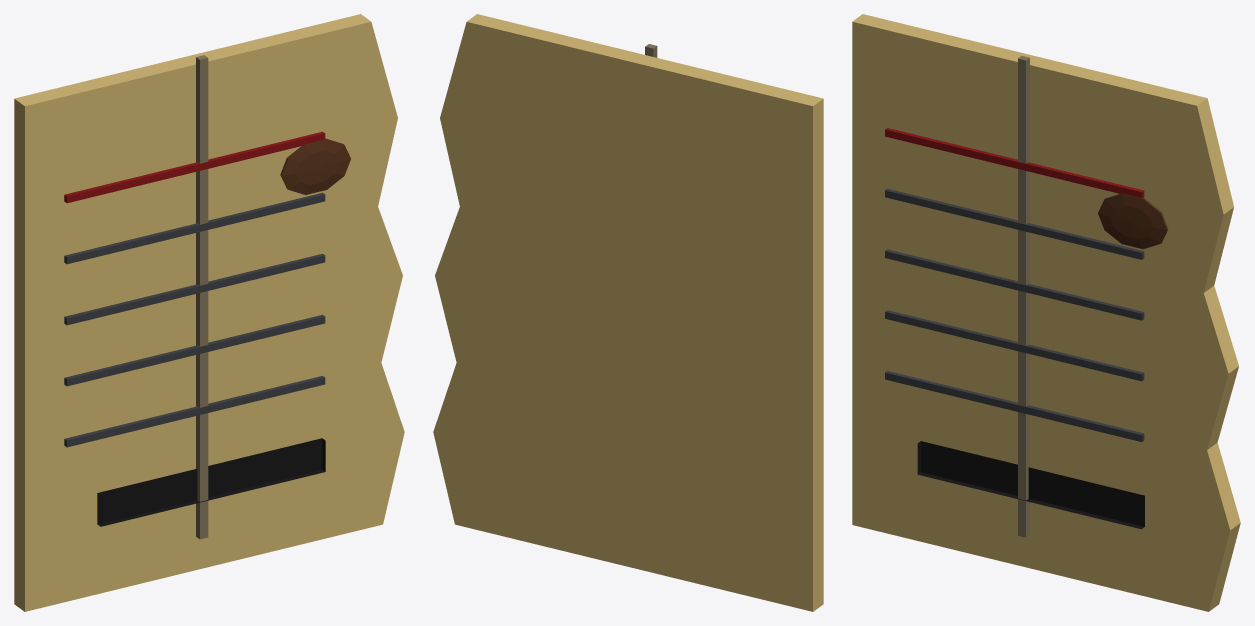
Rendered from school_04.obj.
3 renders of one model, left to right at view 1: azimuth 30°, elevation 25°; view 2: azimuth 150°, elevation 25°; view 3: azimuth 330°, elevation 25°, orthographic.
Parts seen in each view (by area): view 1: MenuPaper, Header, Fold, GreaseSpot, MenuLine0, MenuLine1, MenuLine3, MenuLine2, MenuLine4; view 2: MenuPaper; view 3: MenuPaper, Header, Fold, GreaseSpot, MenuLine1, MenuLine0, MenuLine2, MenuLine3, MenuLine4.
Part boxes in pixels (x1=…): MenuPaper: x1=14, y1=14, x2=404, y2=611; Header: x1=97, y1=438, x2=325, y2=526; Fold: x1=196, y1=55, x2=208, y2=539; GreaseSpot: x1=280, y1=138, x2=350, y2=194; MenuLine0: x1=64, y1=375, x2=325, y2=447; MenuLine1: x1=64, y1=314, x2=325, y2=386; MenuLine3: x1=64, y1=192, x2=325, y2=264; MenuLine2: x1=64, y1=253, x2=325, y2=325; MenuLine4: x1=64, y1=131, x2=325, y2=203; MenuPaper: x1=433, y1=14, x2=823, y2=611; MenuPaper: x1=852, y1=14, x2=1240, y2=611; Header: x1=917, y1=441, x2=1144, y2=529; Fold: x1=1018, y1=56, x2=1029, y2=537; GreaseSpot: x1=1098, y1=193, x2=1168, y2=249; MenuLine1: x1=885, y1=310, x2=1144, y2=381; MenuLine0: x1=885, y1=371, x2=1144, y2=441; MenuLine2: x1=885, y1=249, x2=1144, y2=320; MenuLine3: x1=885, y1=188, x2=1144, y2=259; MenuLine4: x1=885, y1=128, x2=1144, y2=198.
Bounding box in the file's own units: 2.28 × 2.95 × 0.175.
